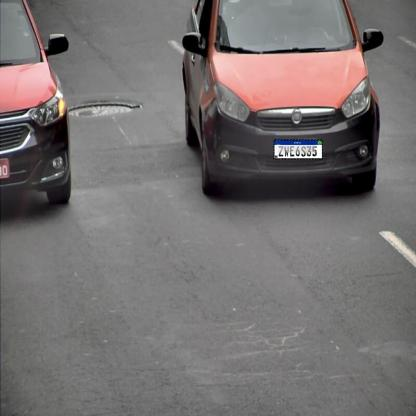PlacaM: (273, 140, 323, 160)
